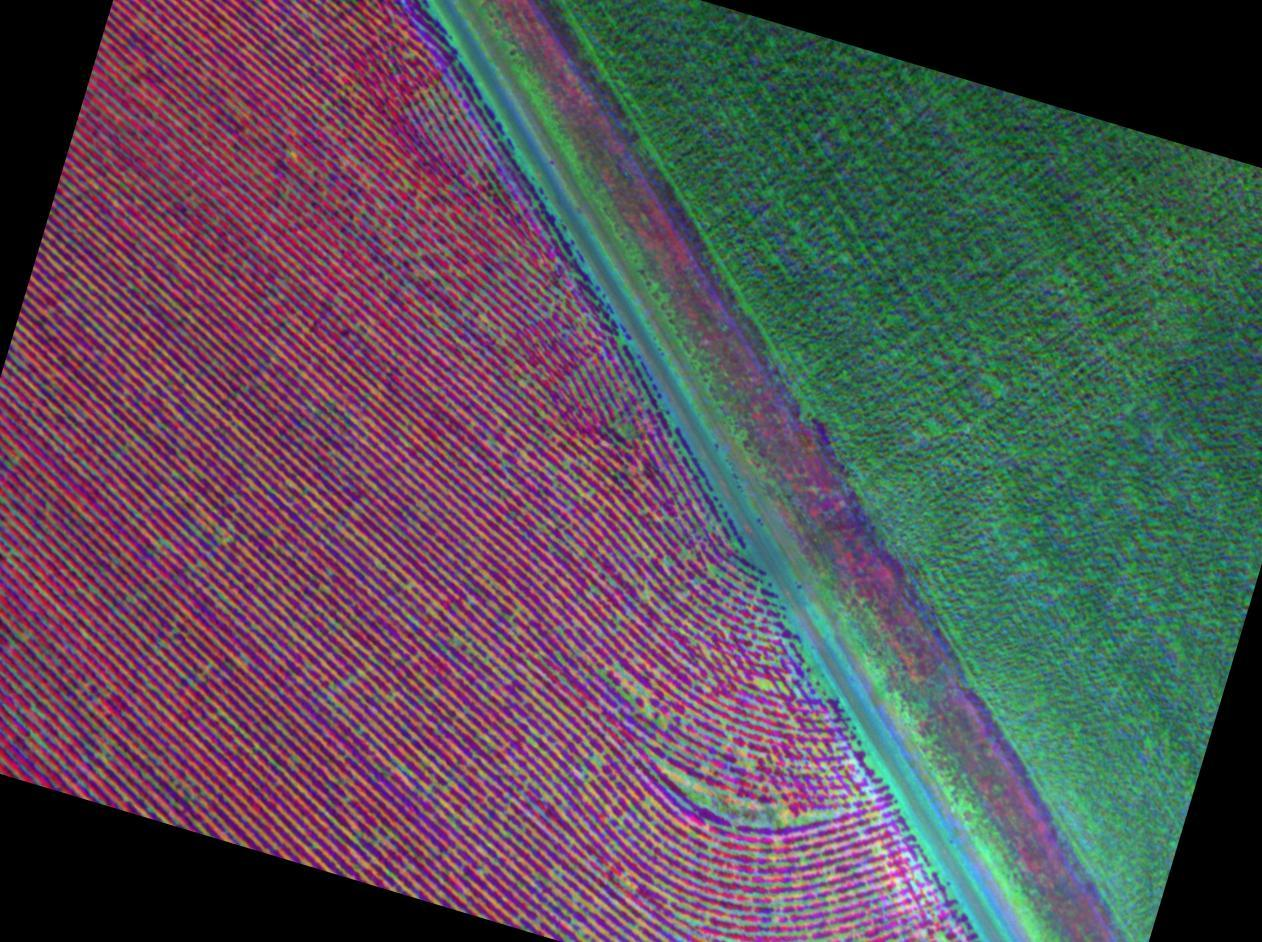dc: (658, 750, 849, 838), (126, 505, 211, 596), (3, 673, 69, 769), (596, 660, 671, 743), (716, 648, 796, 719)
